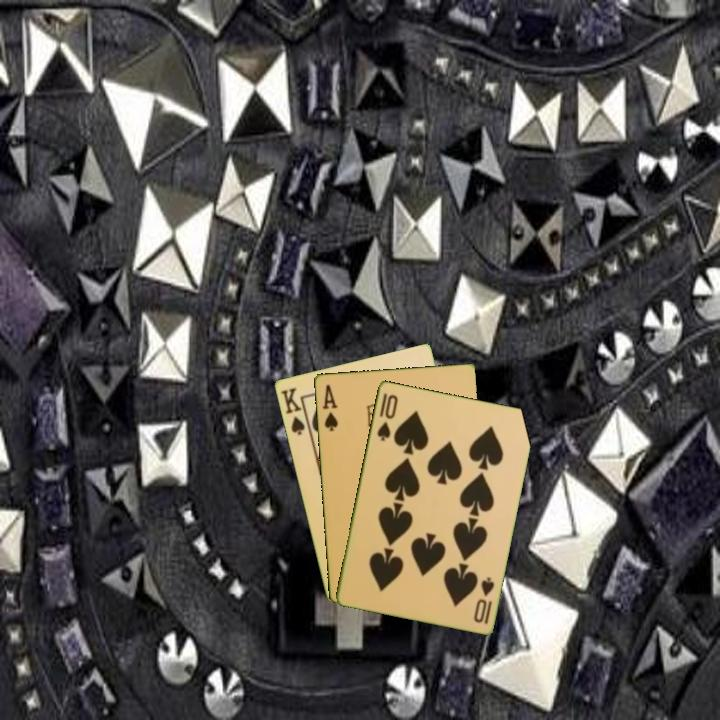10s: (373, 391, 401, 444), (470, 573, 497, 627)
As: (319, 381, 340, 434)
Ks: (276, 384, 312, 438)
